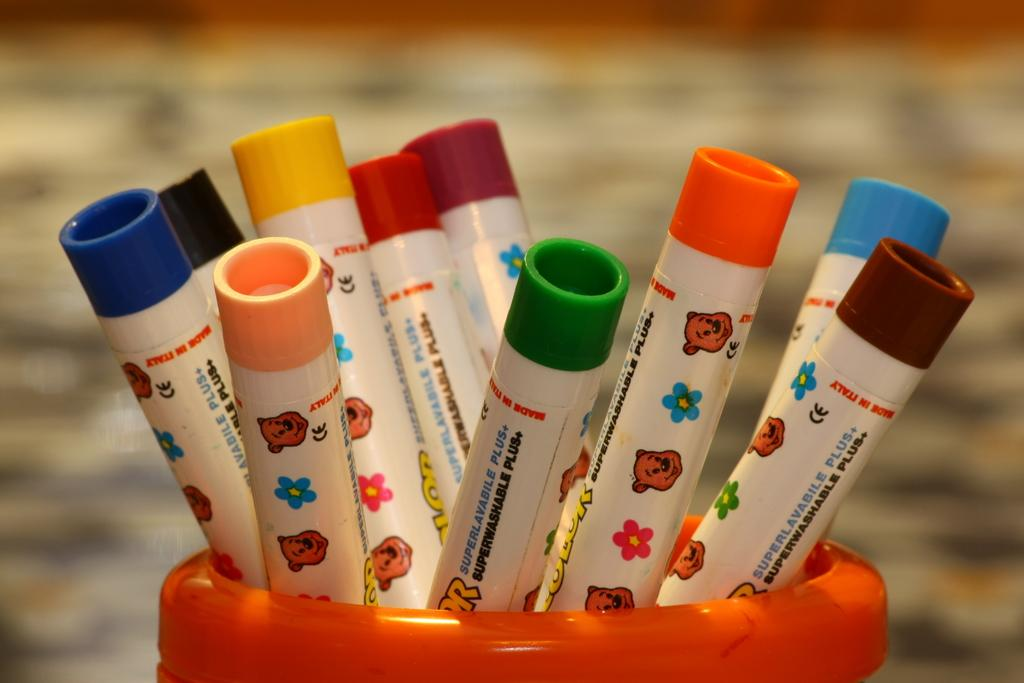pen: (58, 108, 977, 607)
